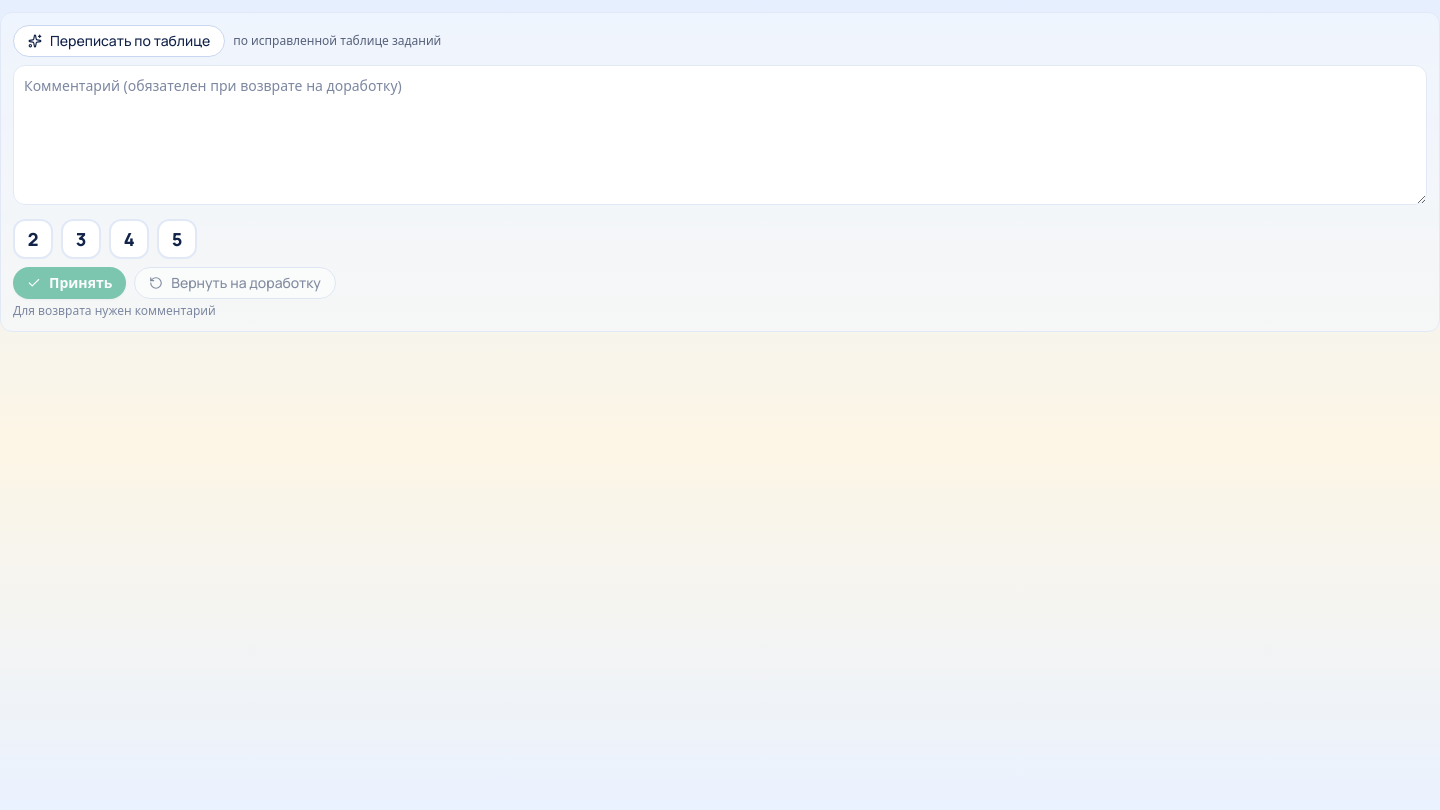
§213 — результат предложением, а не подменой › текст появляется предложением, а поле остаётся нетронутым
Step 1. Type "Мой текст" into the text box with test id "review-comment-input" → (720, 135), box [13,65,1427,205]
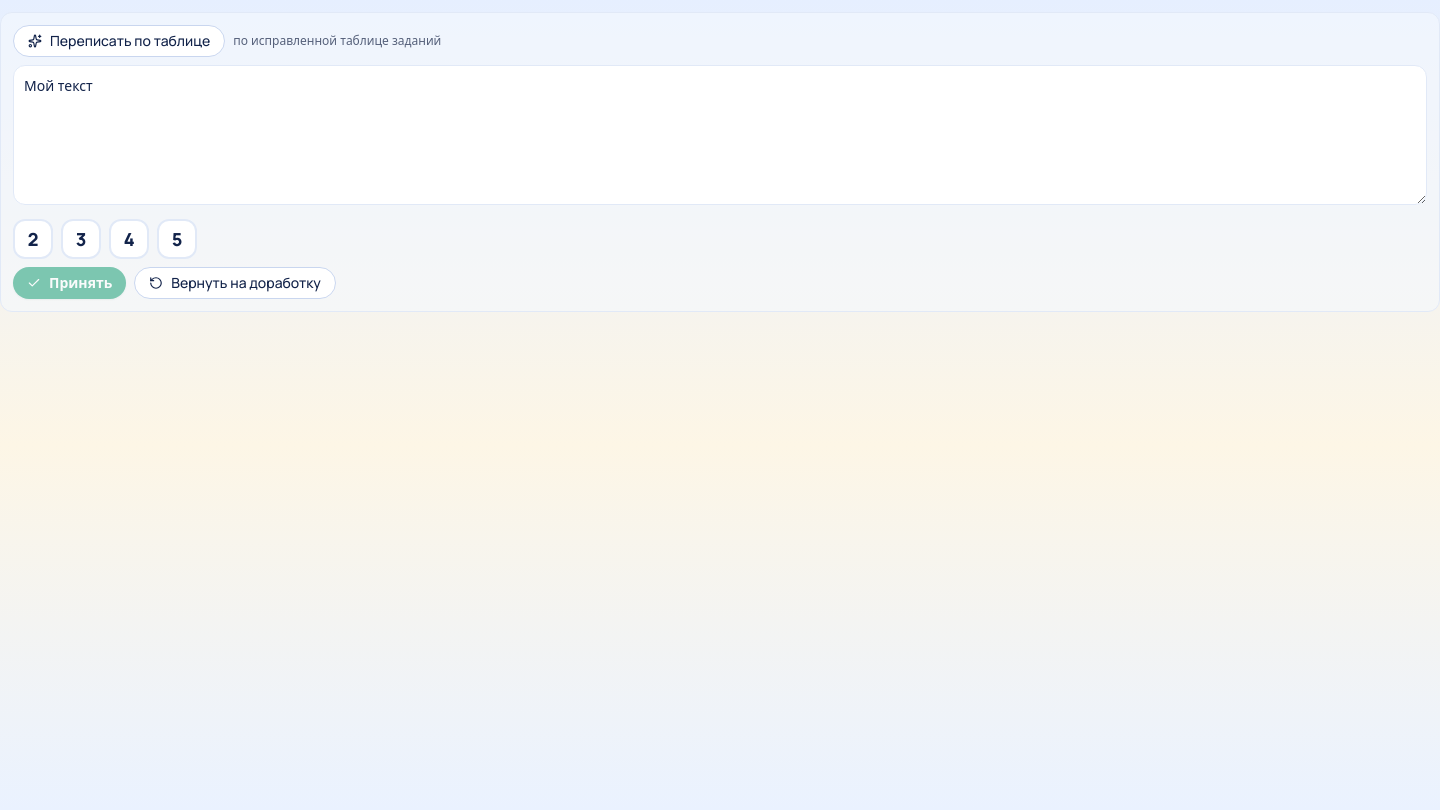
Step 2. Click the button with test id "review-rewrite-button" → (119, 41), box [13,25,225,57]
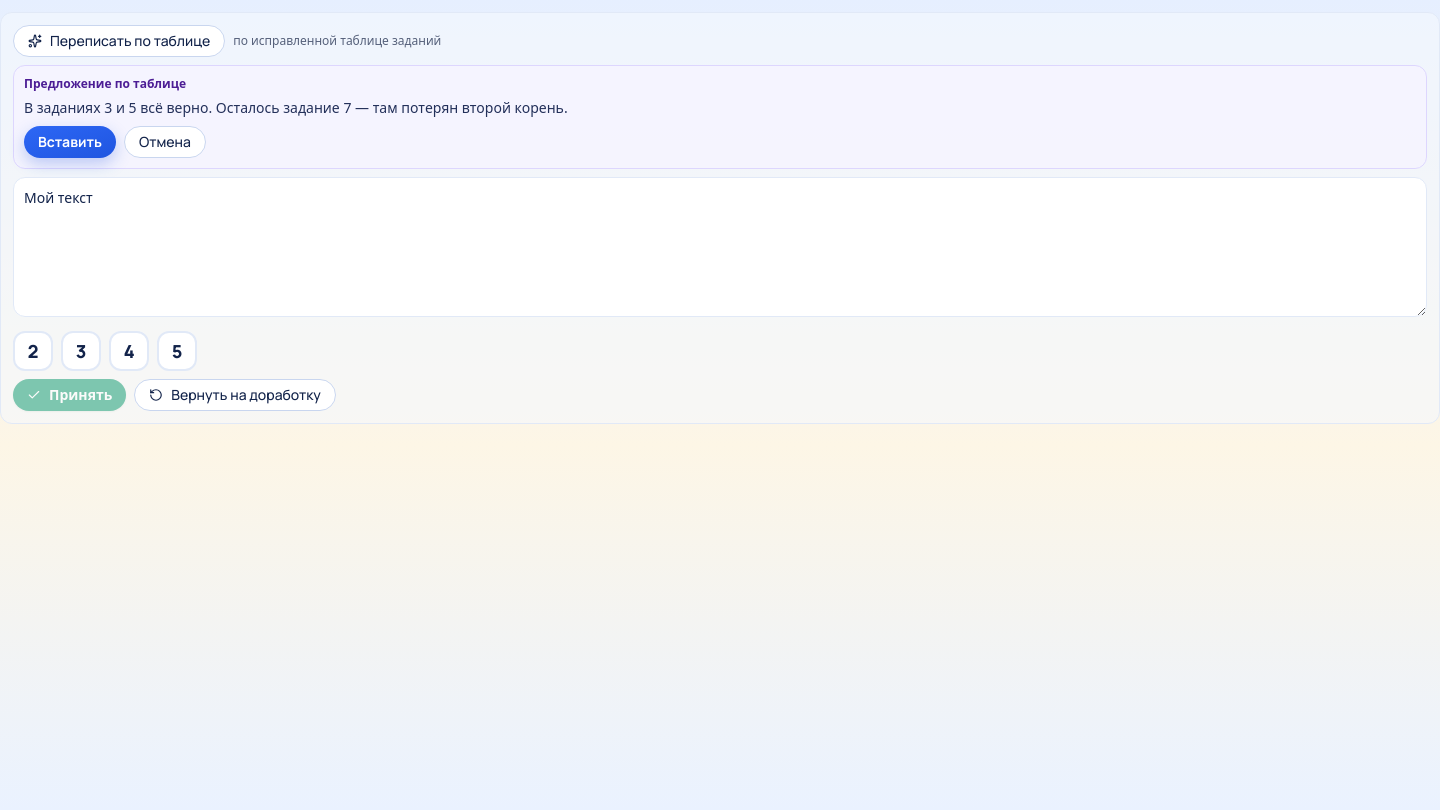
Expected: the element with test id "review-rewrite-suggestion" is shown, [13,65,1427,169]
Expected: the text with test id "review-rewrite-suggestion-text" reads "В заданиях 3 и 5 всё верно. Осталось задание 7 — там потерян второй корень.", [24,98,568,117]
